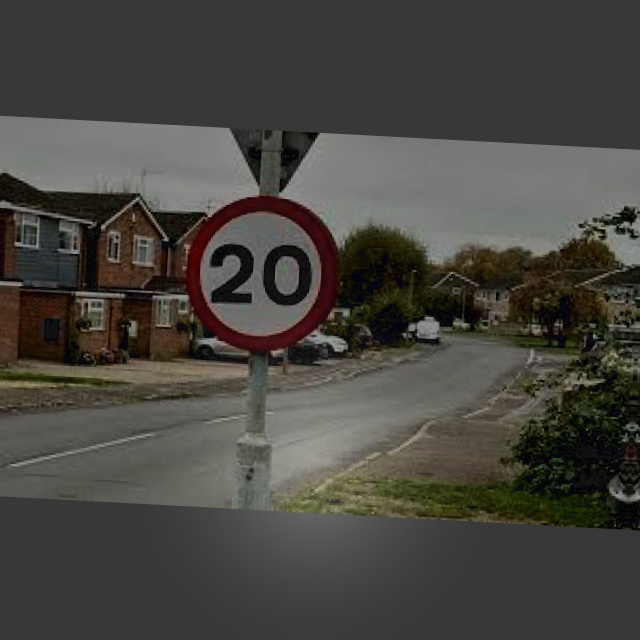Speed_Limit_20: (183, 192, 341, 352)
